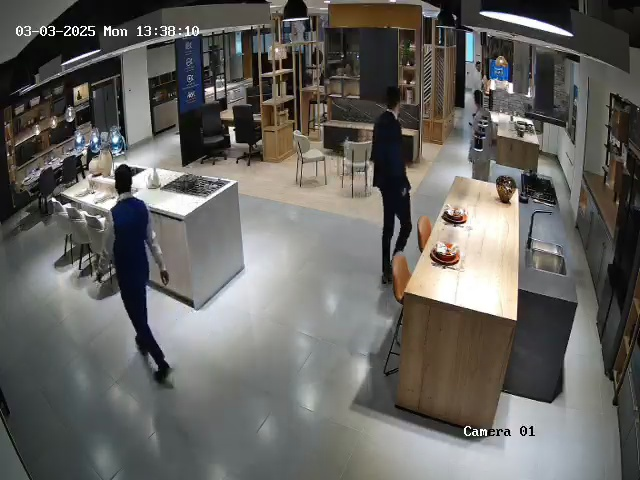employee: (108, 164, 173, 383), (370, 87, 413, 285)
male: (465, 91, 500, 184), (467, 55, 488, 121)
